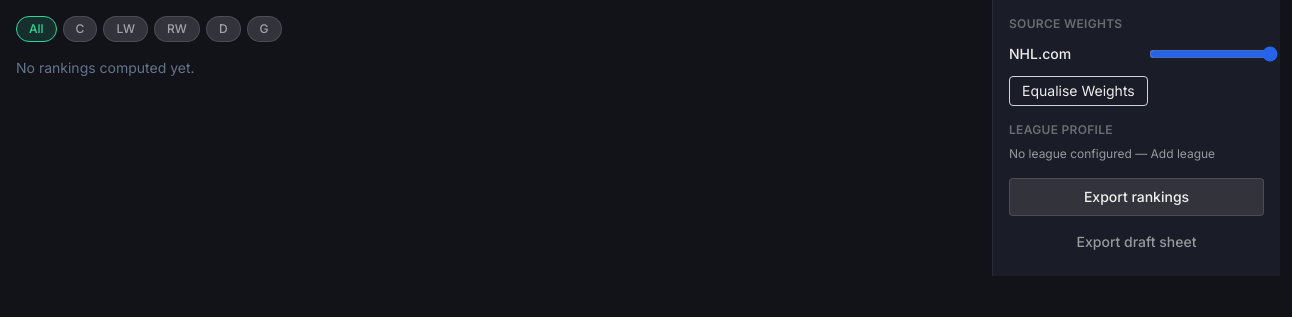
it: PreDraftWorkspace › explains kit-pass requirement without leaking entitlement internals
Click the button "Export rankings": point(1136, 197) x1=1009 y1=178 x2=1264 y2=216
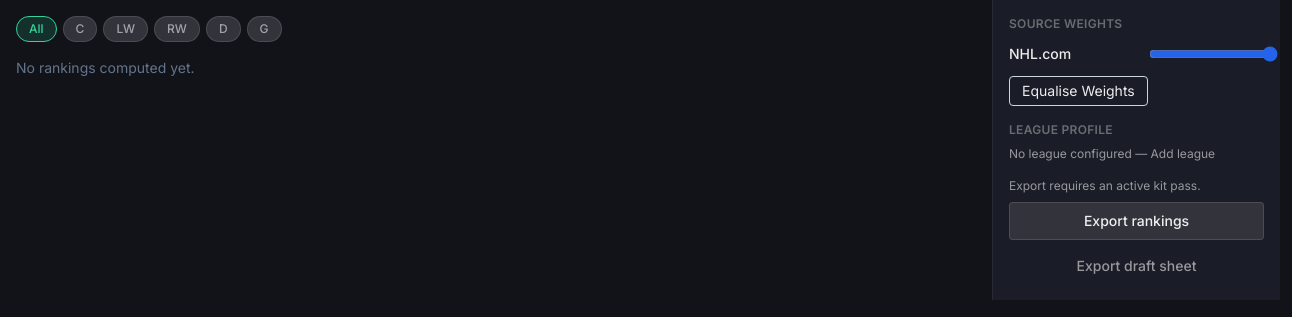
Result: the text "Export requires an active kit pass." is shown at x1=1009 y1=178 x2=1201 y2=193
